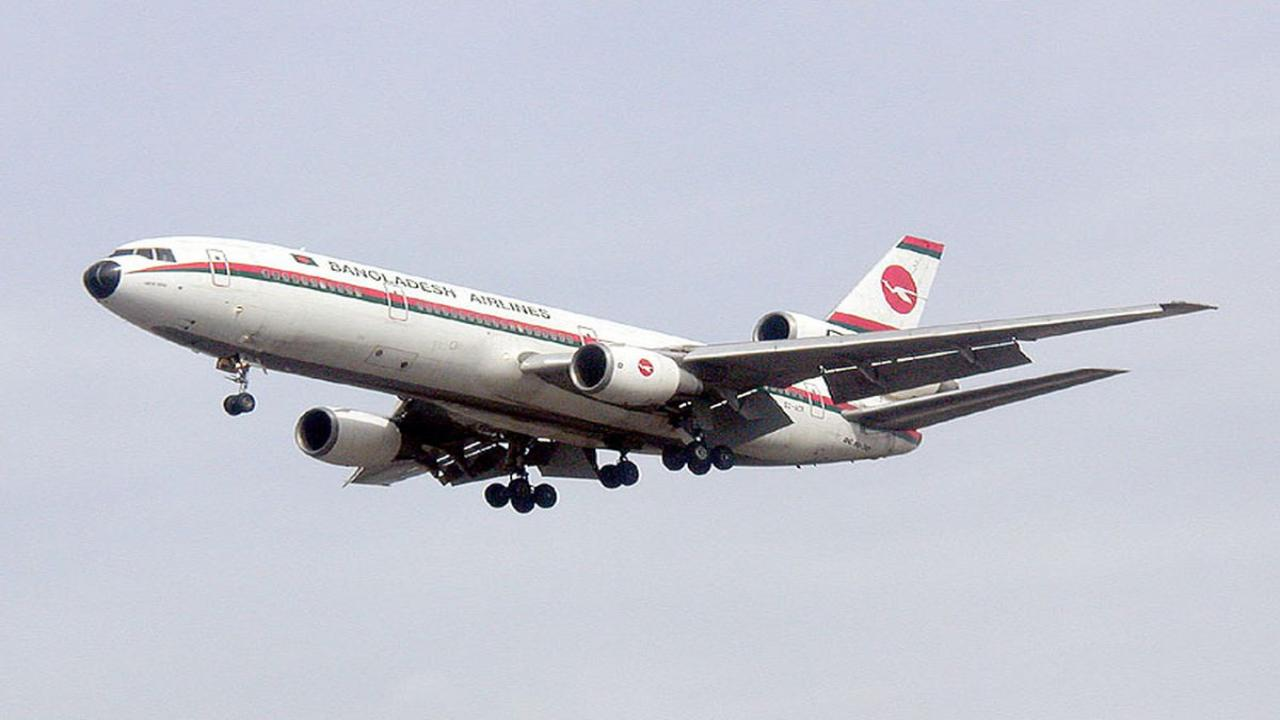Airplane: (70, 214, 1234, 521)
